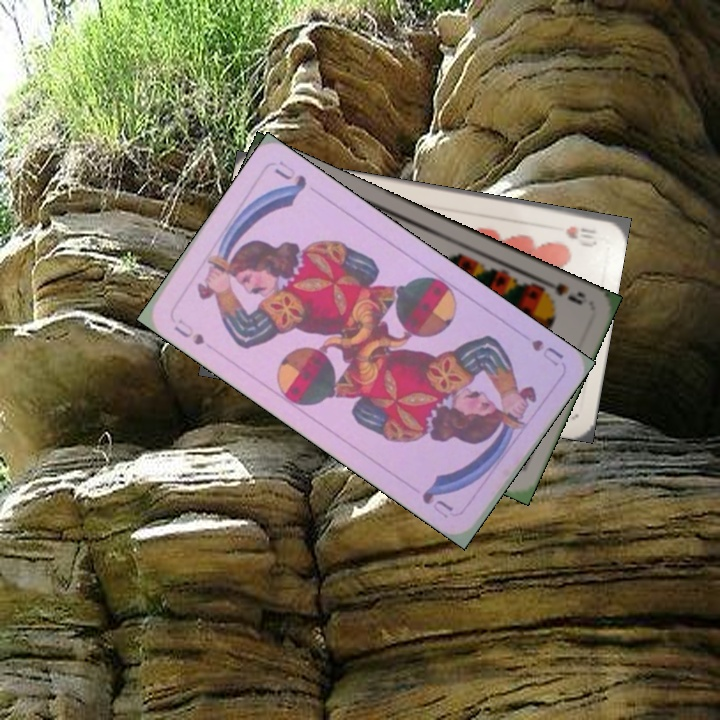H10: (561, 222, 599, 242)
S9: (534, 274, 588, 308)
SU: (527, 335, 567, 369), (170, 314, 207, 348)
